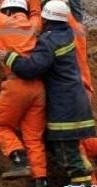boots: (0, 79, 14, 108), (0, 100, 8, 120)
gloves: (0, 0, 7, 8)
hard-hat: (40, 0, 69, 22)
ppe-suit: (0, 0, 49, 97)
